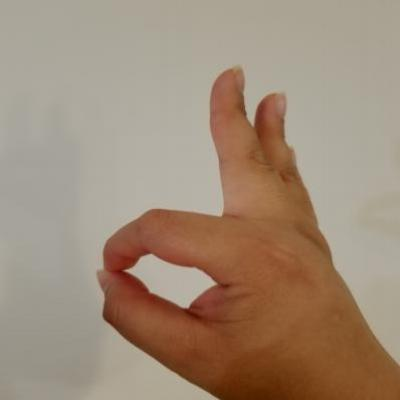hand: (85, 58, 398, 399)
